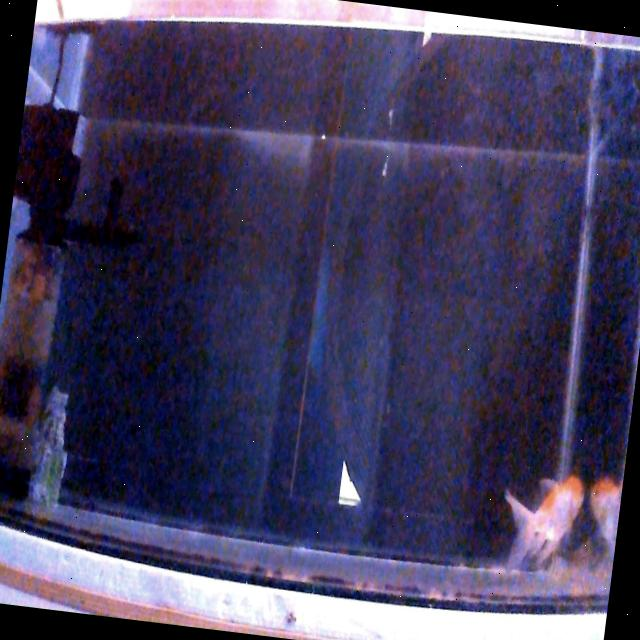fish: (496, 468, 584, 576), (579, 471, 623, 562)
